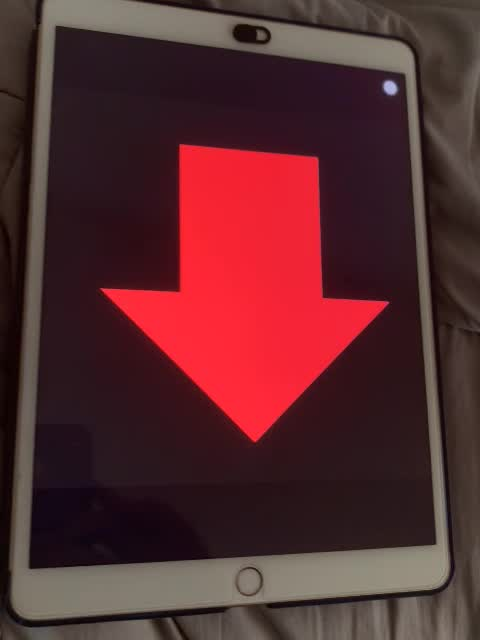down: (98, 140, 393, 447)
